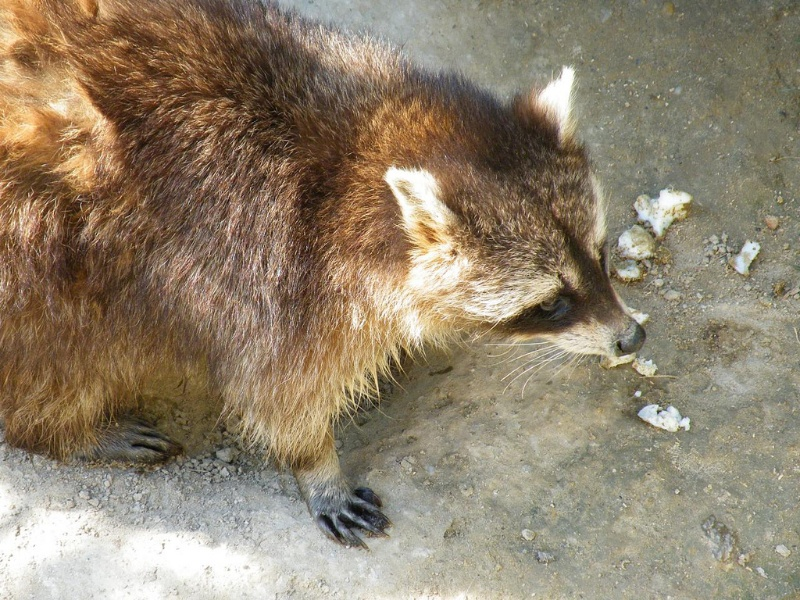raccoon: (1, 2, 648, 558)
